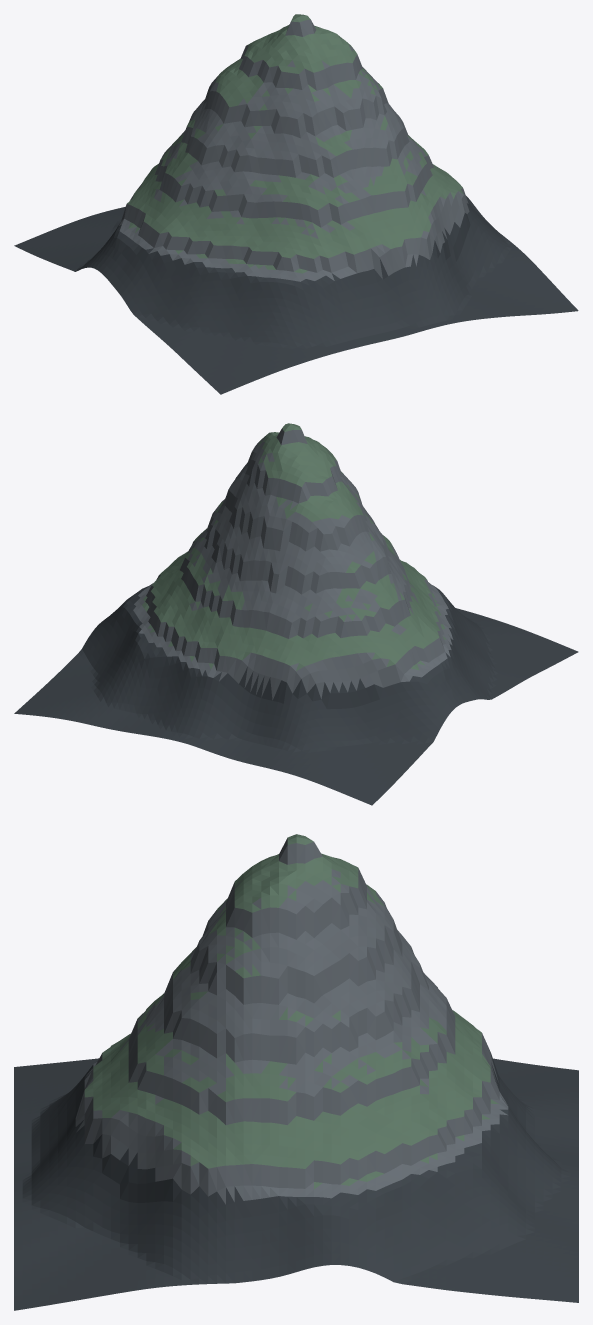
Rendered from island_medium_crag.glb.
The picture shows the model from 3 angles, top to bottom: view 1: azimuth 30°, elevation 25°; view 2: azimuth 150°, elevation 25°; view 3: azimuth 270°, elevation 25°; orthographic projection. The views are drawn at different scales.
Parts seen in each view (by area): view 1: IslandMediumCrag; view 2: IslandMediumCrag; view 3: IslandMediumCrag.
Part boxes in pixels (bbox=[...]): IslandMediumCrag: bbox=[14, 14, 578, 394]; IslandMediumCrag: bbox=[14, 423, 578, 805]; IslandMediumCrag: bbox=[14, 834, 578, 1310].
Size of the model in its own units: 34 by 23.78 by 34.
